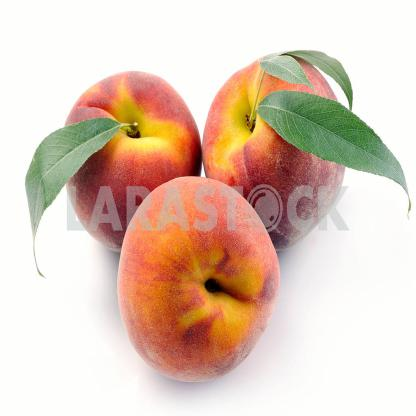peach leaf: (17, 113, 132, 285), (257, 97, 412, 215), (261, 49, 358, 105)
